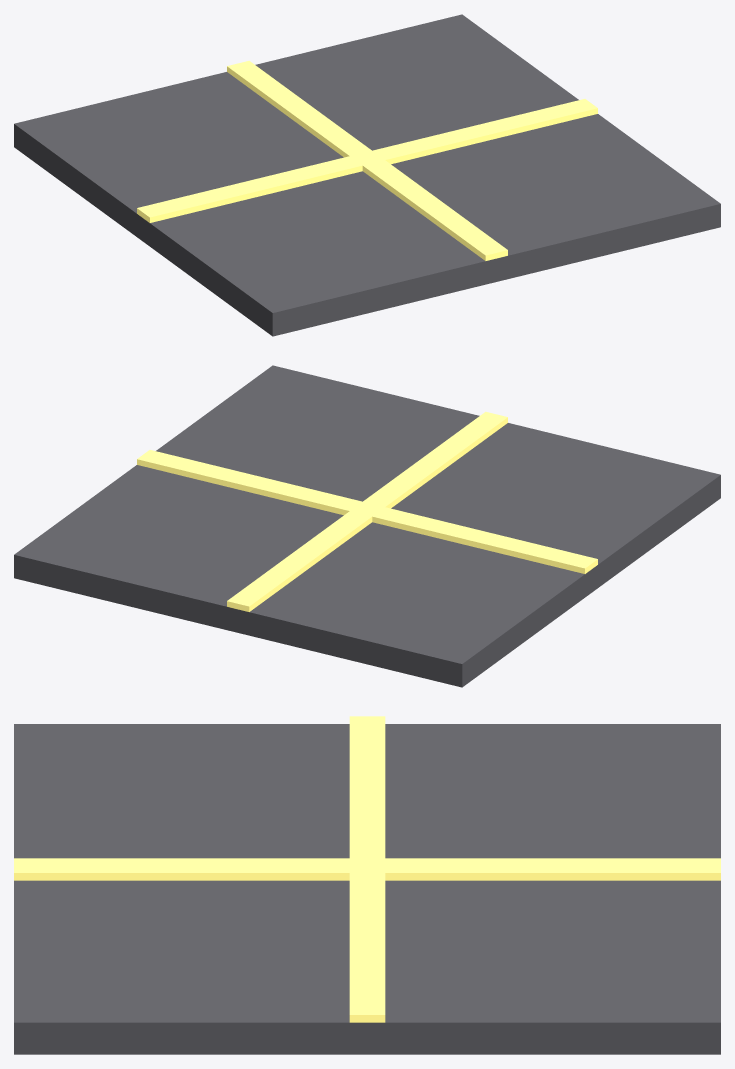
Rendered from road_cross_1.glb.
The picture shows the model from 3 angles, top to bottom: view 1: azimuth 30°, elevation 25°; view 2: azimuth 150°, elevation 25°; view 3: azimuth 270°, elevation 25°; orthographic projection. The views are drawn at different scales.
Parts seen in each view (by area): view 1: road_cross_1; view 2: road_cross_1; view 3: road_cross_1.
Part boxes in pixels (x1,y1,x2,y2): road_cross_1: (14, 14, 720, 336); road_cross_1: (14, 365, 720, 687); road_cross_1: (14, 716, 720, 1054).
Bounding box in the file's own units: 1 × 0.062 × 1.
